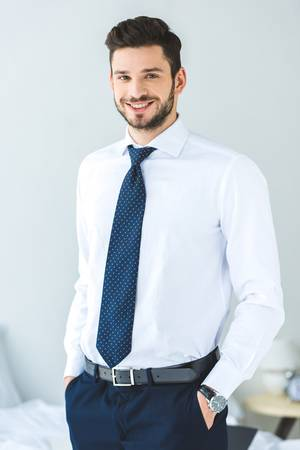F_shirt: (61, 117, 285, 398)
F_tie: (85, 144, 165, 365)
